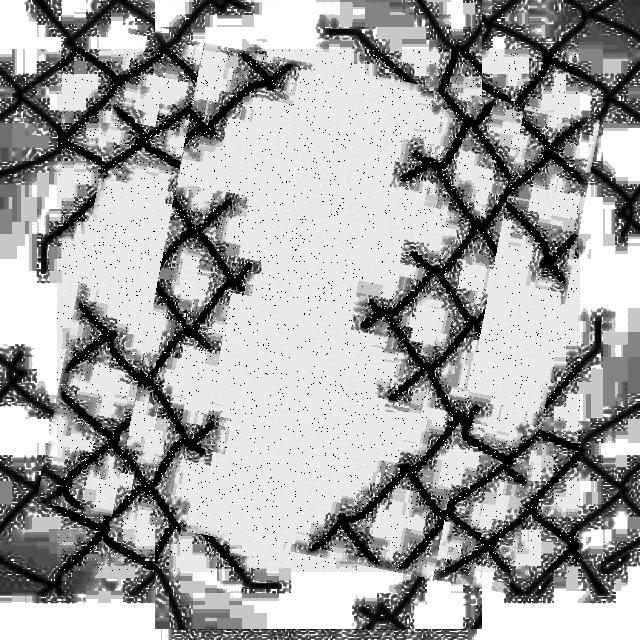anomaly-fence: (57, 49, 580, 572)
